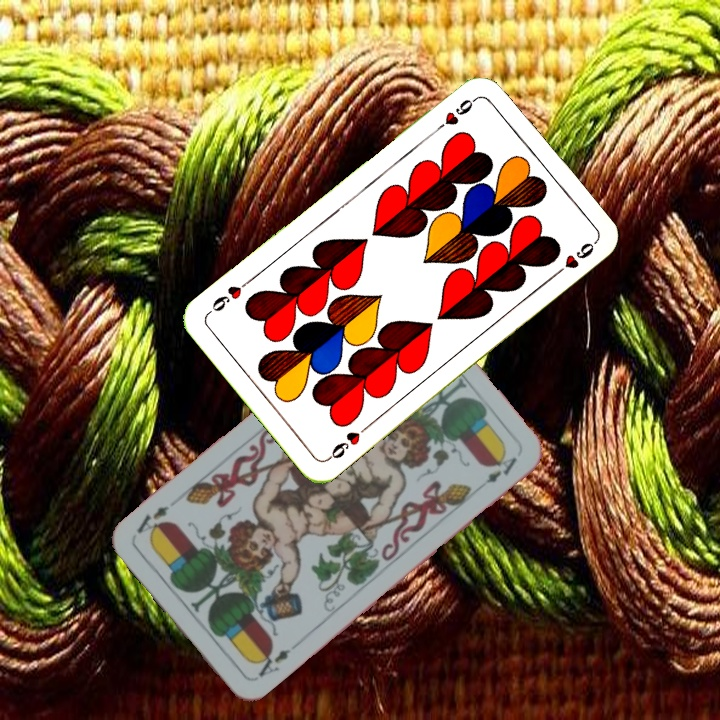EA: (250, 643, 293, 682)
H9: (323, 420, 372, 464), (430, 93, 480, 136)
